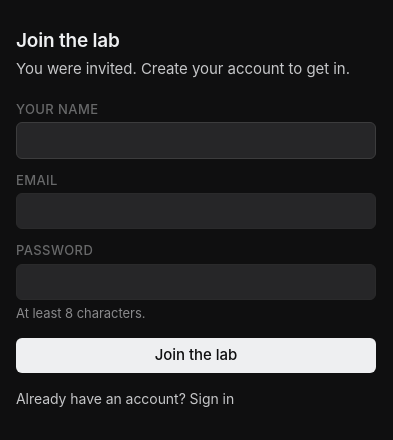
Test: survives a refusal whose body is not the JSON it expected
Type "Bo" into the field labelled "Your name". click: (196, 141)
box: [16, 122, 376, 159]
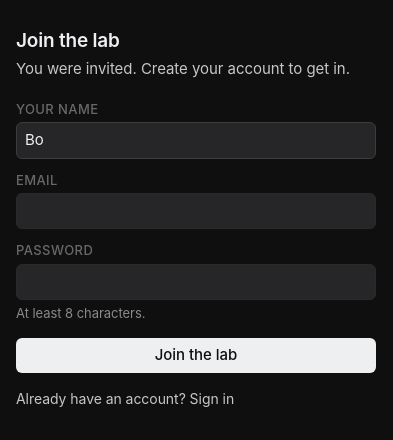
Type "bo@lab.example" into the field labelled "Email". click: (196, 211)
box: [16, 193, 376, 229]
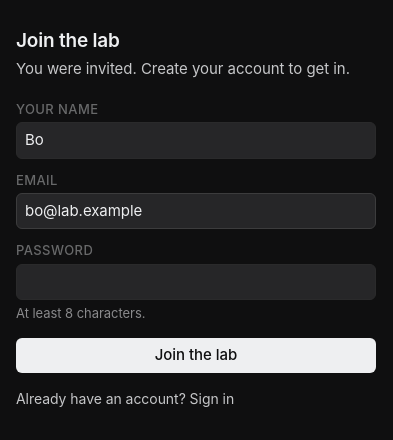
Type "a good long password" into the password field labelled "Password At least 8 characters.". click: (196, 282)
box: [16, 264, 376, 300]
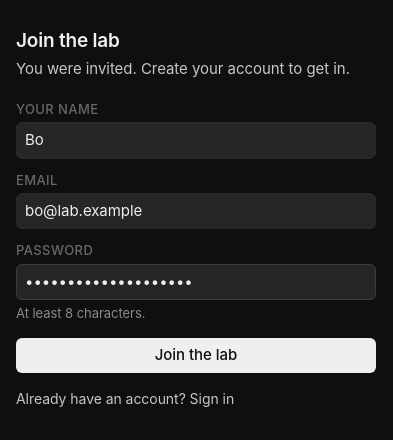
Click the button "Join the lab". click: (196, 356)
box: [16, 338, 376, 373]
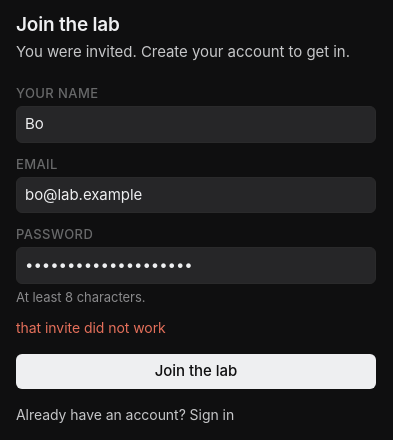
Expected: the button "Join the lab" is enabled, [16, 354, 376, 389]
Now the text "that invite did not work" is shown, box [16, 319, 166, 336]
